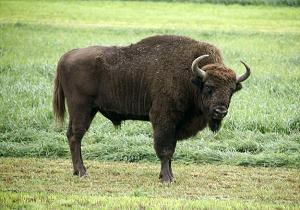zubr: (45, 25, 254, 178)
